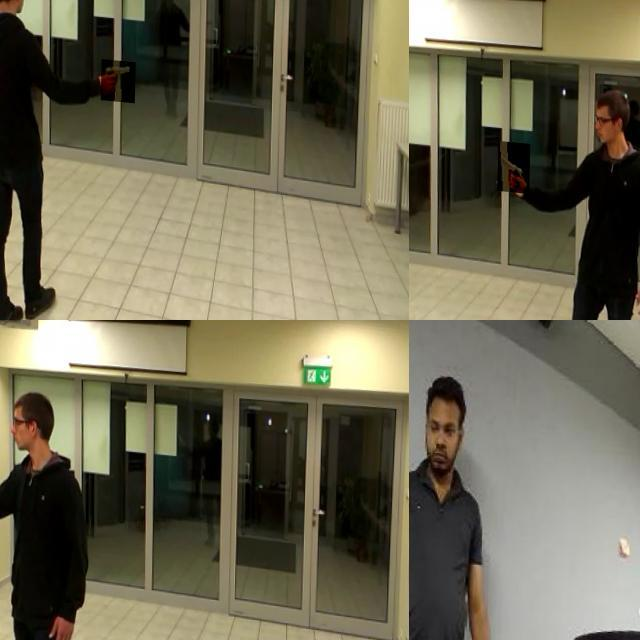gun-knife-thesis - v11 Yolov5 augmented: (499, 135, 532, 188), (102, 54, 138, 98), (0, 426, 20, 495)
